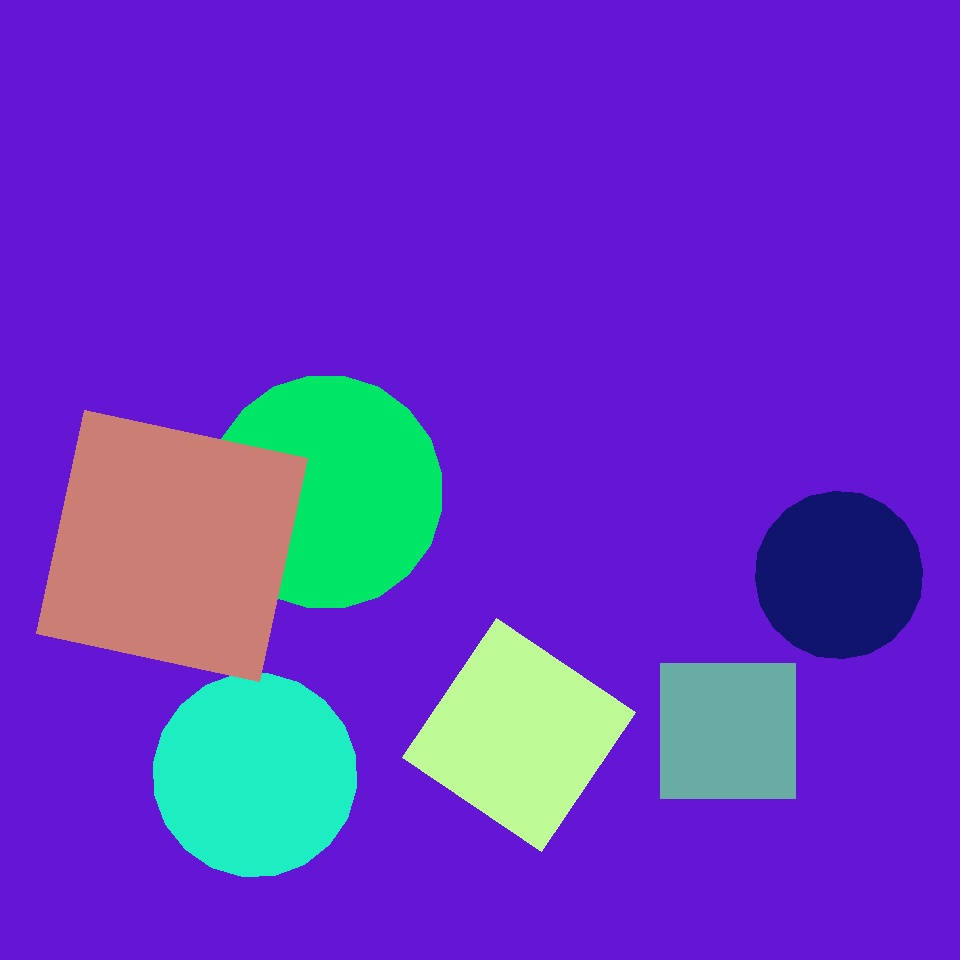square: (36, 410, 308, 682), (403, 618, 636, 852), (660, 664, 796, 798)
triangle: (211, 376, 442, 608), (154, 674, 356, 876), (755, 492, 922, 659)
